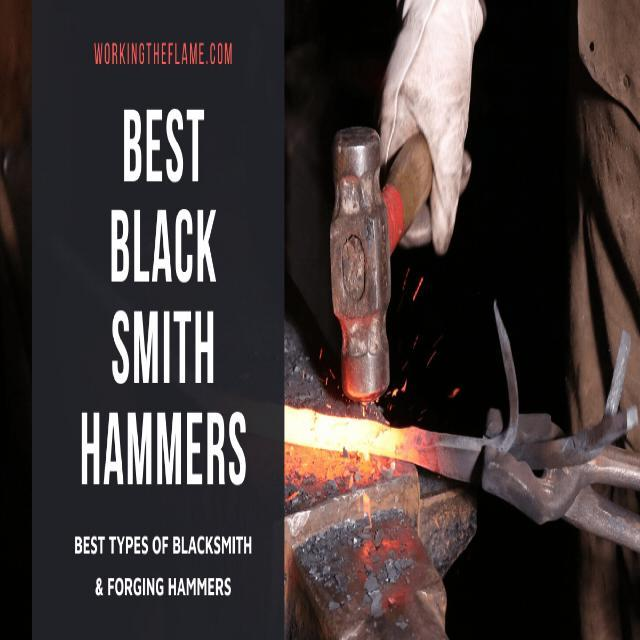hammer: (326, 100, 446, 423)
